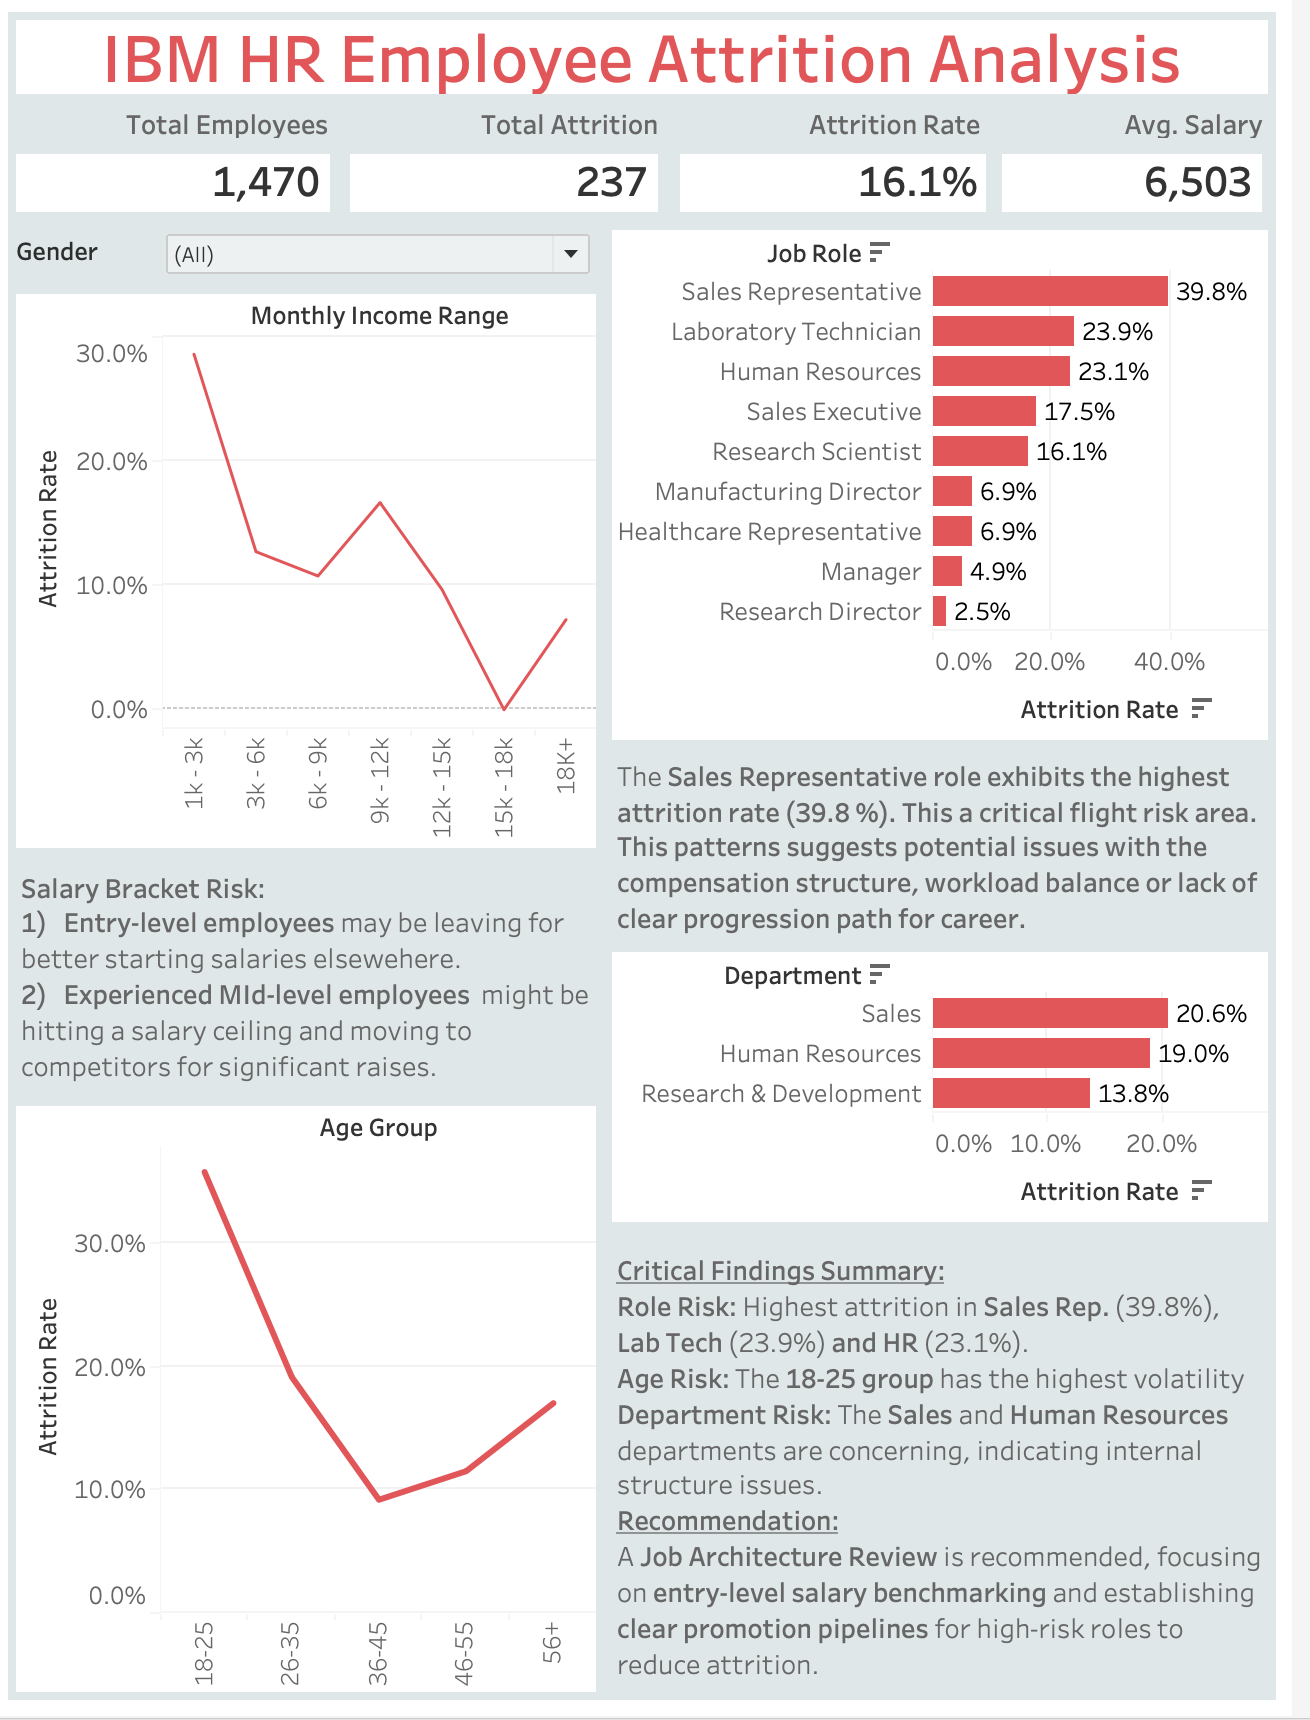

The dashboard page shown, as its layout file describes it:
{"tool":"tableau","page":{"name":"Dashboard 1","canvas":[650,860],"ordinal":0},"visuals":[{"type":"text","box":[8,8,634,44.9]},{"type":"text","box":[8,52.9,167,22.4]},{"type":"text","box":[175,52.9,165,22.4]},{"type":"text","box":[340,52.9,161,22.4]},{"type":"text","box":[501,52.9,141,22.4]},{"type":"worksheet","title":"Sheet 5","mark":"Automatic","box":[8,75.3,167,37.7]},{"type":"worksheet","title":"Sheet 6","mark":"Automatic","box":[175,75.3,165,37.7]},{"type":"worksheet","title":"Sheet 7","mark":"Automatic","box":[340,75.3,161,37.7]},{"type":"worksheet","title":"Sheet 8","mark":"Automatic","box":[501,75.3,141,37.7]},{"type":"filter","title":"Sheet 2","param":"[federated.13sjaa2010ymoc1gm7zjm14gth7c].[none:Gender:nk]","box":[8,113,298,32]},{"type":"worksheet","title":"Sheet 2","mark":"Automatic","rows":["JobRole"],"cols":["Calculation_616570941483118592"],"box":[306,113,336,256]},{"type":"worksheet","title":"Sheet 3","mark":"Line","rows":["Calculation_616570941483118592"],"cols":["Calculation_616570941484257282"],"box":[8,145,298,285]},{"type":"text","box":[306,369,336,105]},{"type":"text","box":[8,430,298,121]},{"type":"worksheet","title":"Sheet 1","mark":"Automatic","rows":["Department"],"cols":["Calculation_616570941483118592"],"box":[306,474,336,146]},{"type":"worksheet","title":"Sheet 4","mark":"Line","rows":["Calculation_616570941483118592"],"cols":["AgeGroup"],"box":[8,551,298,301]},{"type":"text","box":[306,620,336,232]}]}

Visuals, with their boxes in screenshot pixels (x1, y1, x2, y2), scaled from the page's 650x860 canvas onto the 1310x1720 screenshot:
text: bbox(16, 16, 1294, 106)
text: bbox(16, 106, 353, 151)
text: bbox(353, 106, 685, 151)
text: bbox(685, 106, 1010, 151)
text: bbox(1010, 106, 1294, 151)
"Sheet 5" worksheet: bbox(16, 151, 353, 226)
"Sheet 6" worksheet: bbox(353, 151, 685, 226)
"Sheet 7" worksheet: bbox(685, 151, 1010, 226)
"Sheet 8" worksheet: bbox(1010, 151, 1294, 226)
"Sheet 2" filter: bbox(16, 226, 617, 290)
"Sheet 2" worksheet: bbox(617, 226, 1294, 738)
"Sheet 3" worksheet (Line marks): bbox(16, 290, 617, 860)
text: bbox(617, 738, 1294, 948)
text: bbox(16, 860, 617, 1102)
"Sheet 1" worksheet: bbox(617, 948, 1294, 1240)
"Sheet 4" worksheet (Line marks): bbox(16, 1102, 617, 1704)
text: bbox(617, 1240, 1294, 1704)
